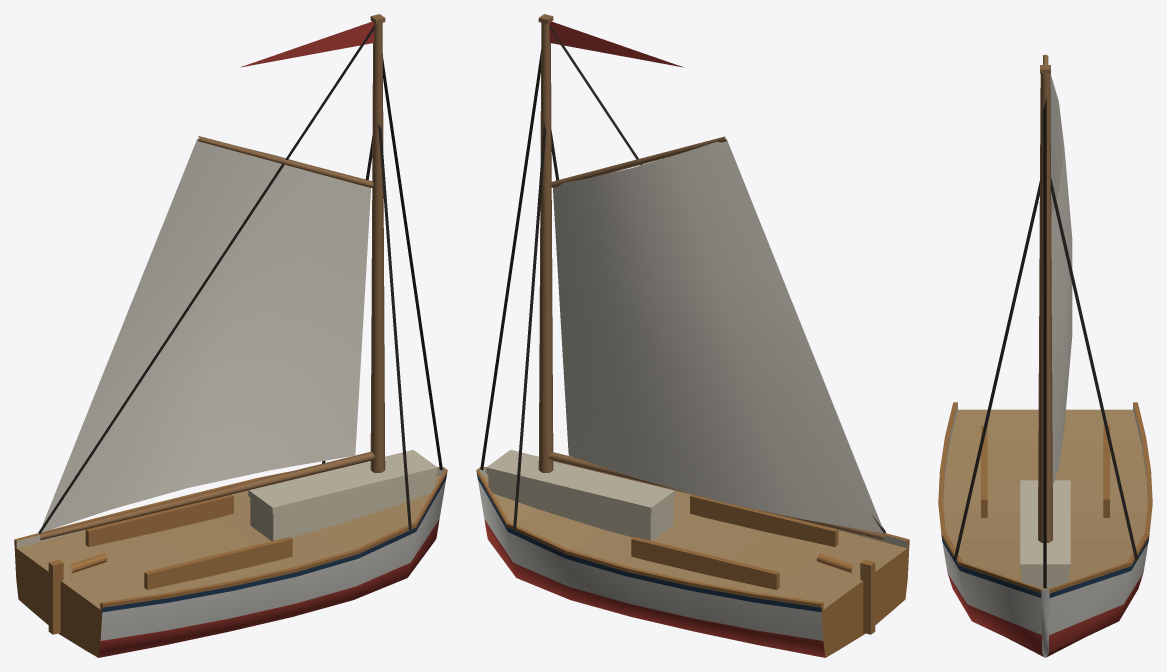
The model's file is hull_usd_cat_skiff.glb.
3 renders of one model, left to right at view 1: azimuth 30°, elevation 25°; view 2: azimuth 150°, elevation 25°; view 3: azimuth 270°, elevation 25°, orthographic. The views are drawn at different scales.
Parts seen in each view (by area): view 1: sail_main, hull, deck, mast, boom_spar, rigging, flag, gaff; view 2: sail_main, hull, deck, mast, rigging, boom_spar, flag, gaff; view 3: hull, sail_main, deck, mast, rigging.
Part boxes in pixels (x1=…): sail_main: x1=41, y1=138, x2=370, y2=532; hull: x1=14, y1=467, x2=447, y2=657; deck: x1=70, y1=449, x2=437, y2=589; mast: x1=370, y1=14, x2=385, y2=472; boom_spar: x1=38, y1=25, x2=374, y2=540; rigging: x1=322, y1=58, x2=442, y2=529; flag: x1=240, y1=21, x2=374, y2=67; gaff: x1=197, y1=136, x2=373, y2=187; sail_main: x1=553, y1=138, x2=883, y2=533; hull: x1=476, y1=467, x2=909, y2=657; deck: x1=486, y1=449, x2=853, y2=589; mast: x1=538, y1=14, x2=553, y2=472; rigging: x1=480, y1=49, x2=559, y2=529; boom_spar: x1=548, y1=25, x2=885, y2=540; flag: x1=549, y1=21, x2=683, y2=67; gaff: x1=550, y1=136, x2=726, y2=188; hull: x1=938, y1=402, x2=1152, y2=657; sail_main: x1=1050, y1=74, x2=1072, y2=485; deck: x1=981, y1=425, x2=1109, y2=589; mast: x1=1038, y1=65, x2=1052, y2=542; rigging: x1=953, y1=98, x2=1138, y2=588.
Bounding box in the file's own units: 5.26 × 6.84 × 2.3.
